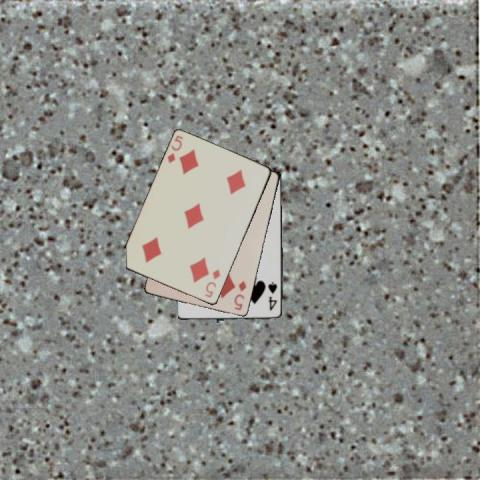4s: (265, 281, 279, 312)
5d: (202, 266, 222, 299), (165, 132, 184, 164), (231, 278, 248, 312)
